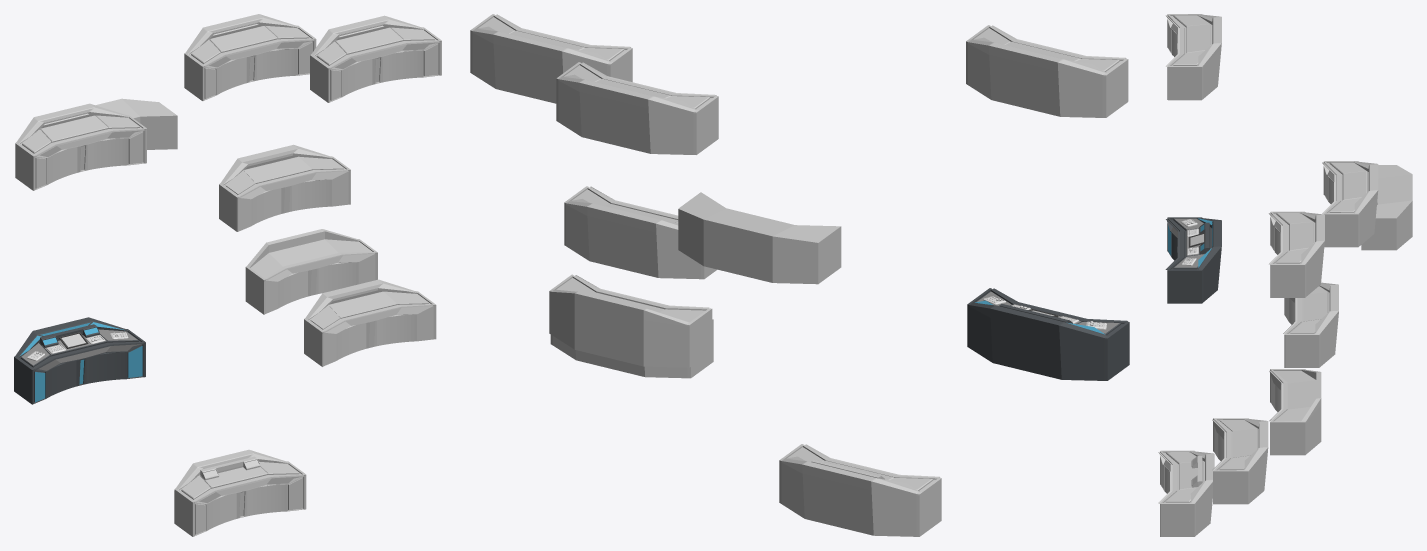
The model's file is controlpanel.fbx.
3 views of the same model, side by side, from view 1: azimuth 30°, elevation 25°; view 2: azimuth 150°, elevation 25°; view 3: azimuth 270°, elevation 25° (orthographic). The views are drawn at different scales.
Parts seen in each view (by area): view 1: Cube.003, Cube.033, Cube.004, Cube.006, Cube, Cube.005, Cube.002, Cube.007, Cube.001; view 2: Cube.002, Cube.005, Cube, Cube.033, Cube.007, Cube.001, Cube.004, Cube.006, Cube.003; view 3: Cube.003, Cube.006, Cube, Cube.005, Cube.033, Cube.002, Cube.007, Cube.004, Cube.001.
Boxes of the visible parts, bbox=[...] form: Cube.003: bbox=[304, 279, 436, 366]; Cube.033: bbox=[174, 449, 306, 536]; Cube.004: bbox=[219, 144, 350, 231]; Cube.006: bbox=[310, 15, 441, 102]; Cube: bbox=[15, 103, 146, 190]; Cube.005: bbox=[184, 14, 316, 100]; Cube.002: bbox=[245, 229, 377, 314]; Cube.007: bbox=[14, 317, 145, 404]; Cube.001: bbox=[96, 98, 177, 149]; Cube.002: bbox=[549, 274, 712, 367]; Cube.005: bbox=[556, 62, 718, 154]; Cube: bbox=[966, 25, 1128, 117]; Cube.033: bbox=[779, 444, 941, 536]; Cube.007: bbox=[967, 288, 1129, 380]; Cube.001: bbox=[678, 192, 841, 284]; Cube.004: bbox=[564, 186, 716, 279]; Cube.006: bbox=[470, 14, 632, 103]; Cube.003: bbox=[550, 319, 713, 378]; Cube.003: bbox=[1212, 418, 1268, 504]; Cube.006: bbox=[1269, 211, 1324, 297]; Cube: bbox=[1166, 14, 1221, 100]; Cube.005: bbox=[1322, 161, 1378, 247]; Cube.033: bbox=[1158, 450, 1214, 536]; Cube.002: bbox=[1269, 369, 1321, 455]; Cube.007: bbox=[1165, 217, 1221, 303]; Cube.004: bbox=[1283, 282, 1338, 367]; Cube.001: bbox=[1361, 165, 1412, 250].
Size of the model in its own units: 2896 by 2546 by 1439.
